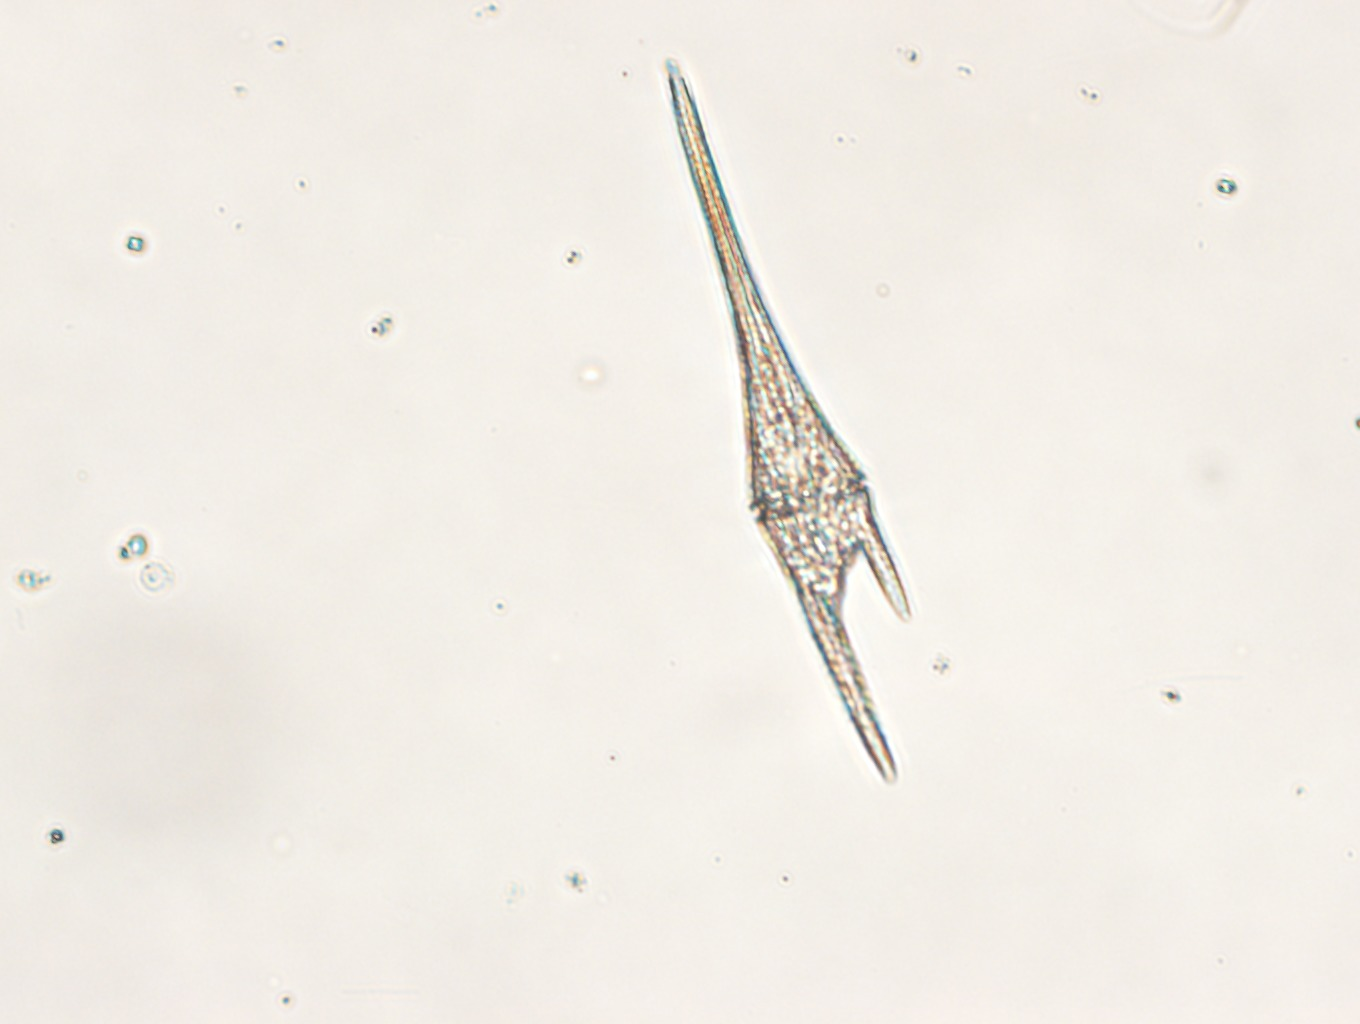ceratium furca: (662, 57, 911, 783)
